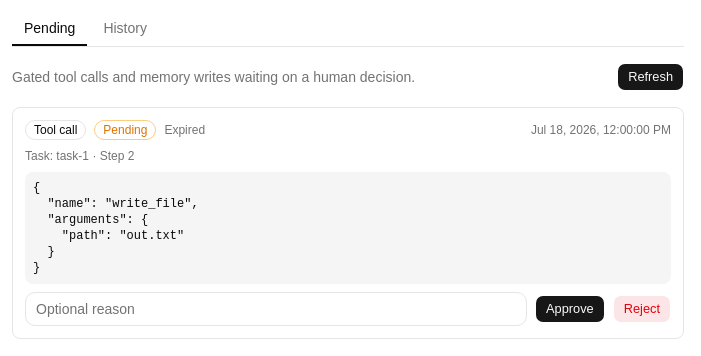
Approvals › a decided approval disappears once the refreshed list applies
Check: the text "Tool call" is shown, box [25, 120, 86, 140]
Click the button "Approve": click(570, 309) [535, 295, 605, 323]
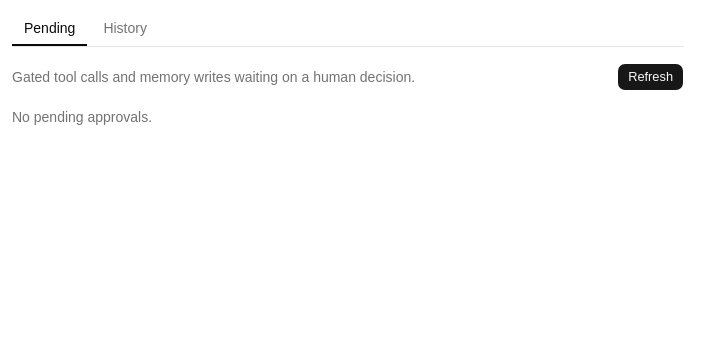
Check: the text "No pending approvals." is shown, box [12, 109, 152, 125]
